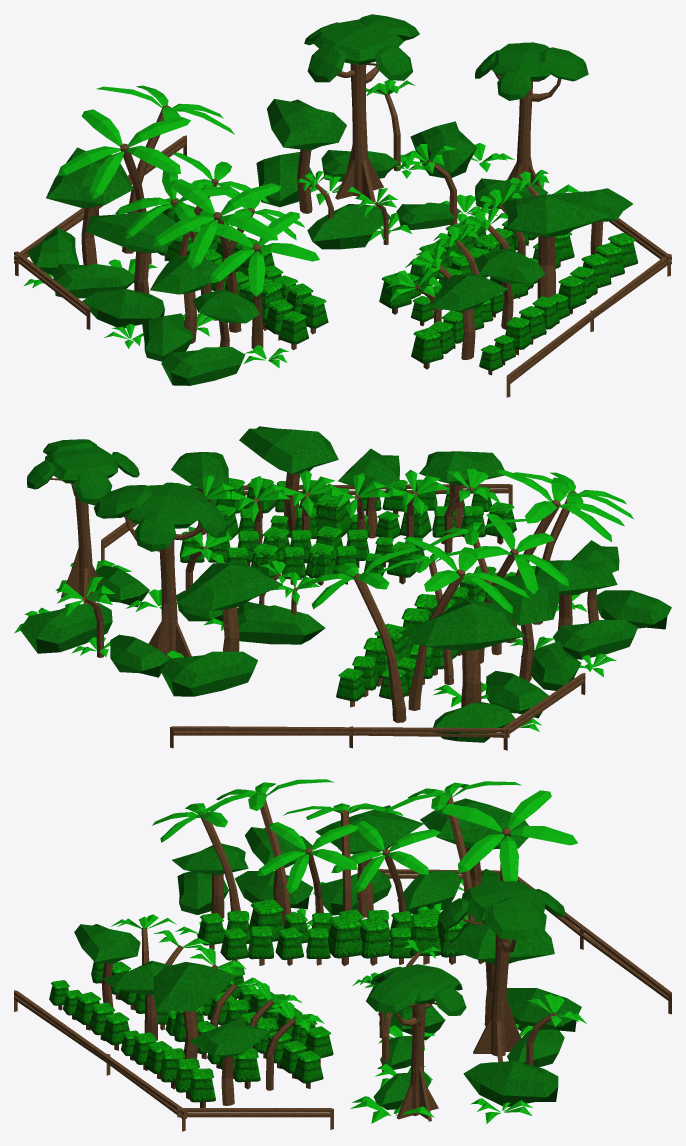
Rendered from Agroforestry Add On 1.2 after.fbx.
3 renders of one model, top to bottom at view 1: azimuth 30°, elevation 25°; view 2: azimuth 150°, elevation 25°; view 3: azimuth 270°, elevation 25°, orthographic.
Parts seen in each view (by area): view 1: Agroforesty Plot; view 2: Agroforesty Plot; view 3: Agroforesty Plot.
Boxes of the visible parts, <box> form: Agroforesty Plot: <box>14,14,671,397</box>; Agroforesty Plot: <box>14,426,671,750</box>; Agroforesty Plot: <box>14,779,671,1131</box>.
Bounding box in the file's own units: 1.74 × 0.5281 × 1.88.
Materials: 1 (1 with a texture image).
